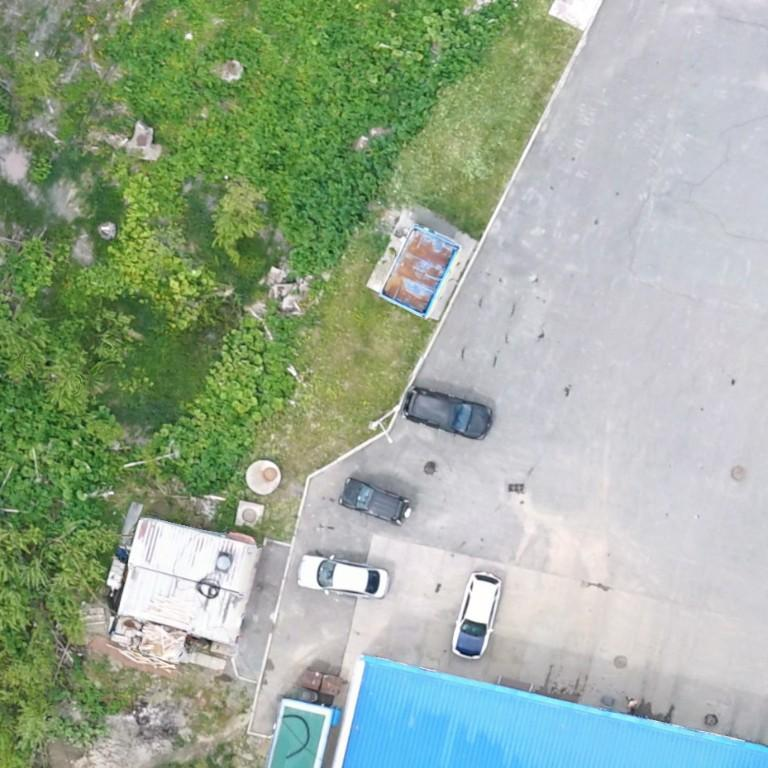hogweed: (241, 25, 475, 272), (0, 384, 99, 512), (180, 440, 237, 495)
